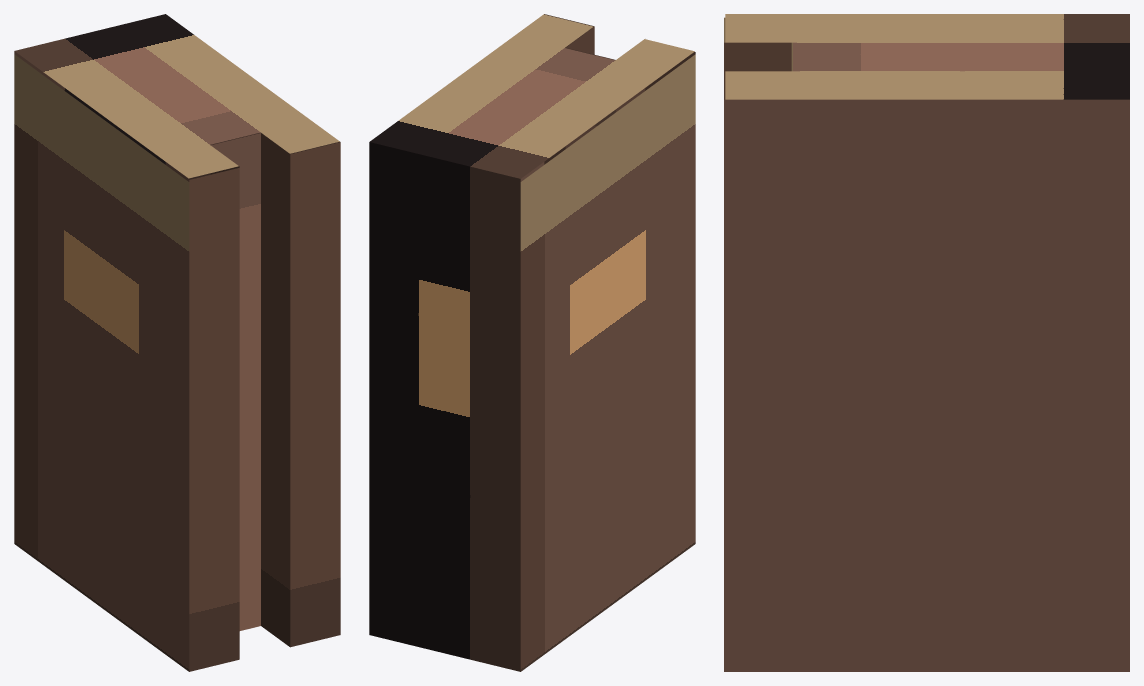
File: book_0x282_29.obj
3 renders of one model, left to right at view 1: azimuth 30°, elevation 25°; view 2: azimuth 150°, elevation 25°; view 3: azimuth 270°, elevation 25°, orthographic. The views are drawn at different scales.
Parts seen in each view (by area): view 1: Cube.001; view 2: Cube.001; view 3: Cube.001.
Boxes of the visible parts, <box> form: Cube.001: <box>14,14,340,671</box>; Cube.001: <box>369,14,695,671</box>; Cube.001: <box>724,14,1129,671</box>.
Bounding box in the file's own units: 0.1875 × 0.5833 × 0.375.
